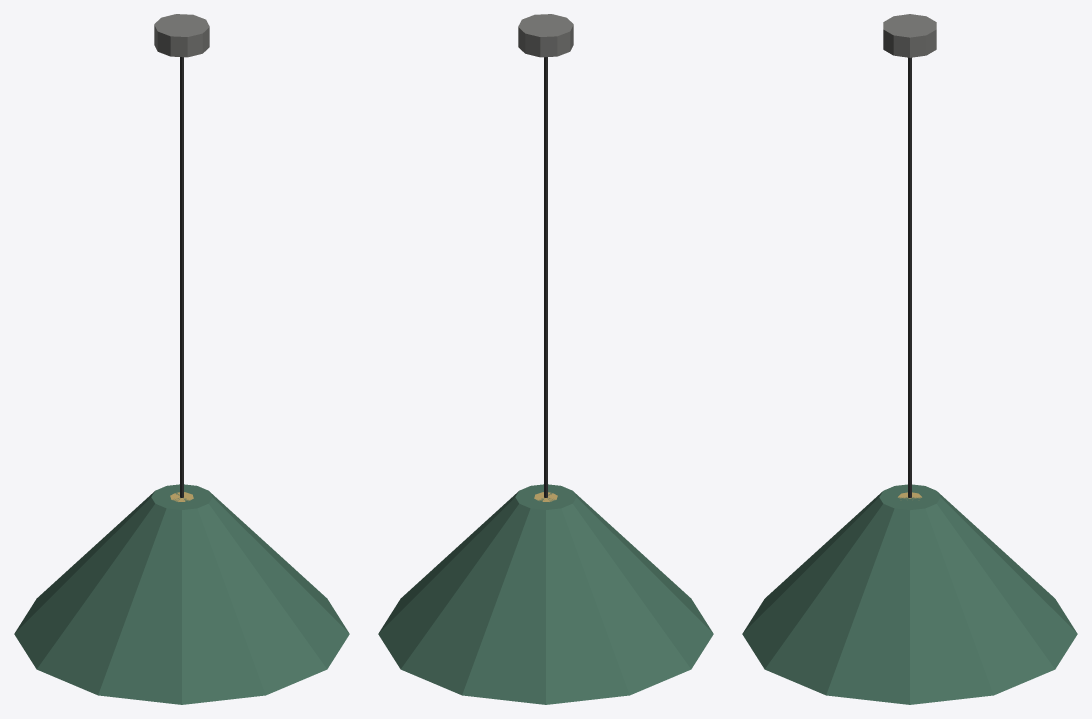
Rendered from lamp.glb.
3 renders of one model, left to right at view 1: azimuth 30°, elevation 25°; view 2: azimuth 150°, elevation 25°; view 3: azimuth 270°, elevation 25°, orthographic.
Visible parts, largest first — view 1: LampShade, LampCable; view 2: LampShade, LampCable; view 3: LampShade, LampCable.
Part boxes in pixels (<box>): LampShade: <box>14,484,349,704</box>; LampCable: <box>154,14,209,497</box>; LampShade: <box>378,484,713,704</box>; LampCable: <box>518,14,573,497</box>; LampShade: <box>742,484,1077,704</box>; LampCable: <box>883,14,936,497</box>.
Size of the model in its own units: 0.6 by 1.2 by 0.6.
